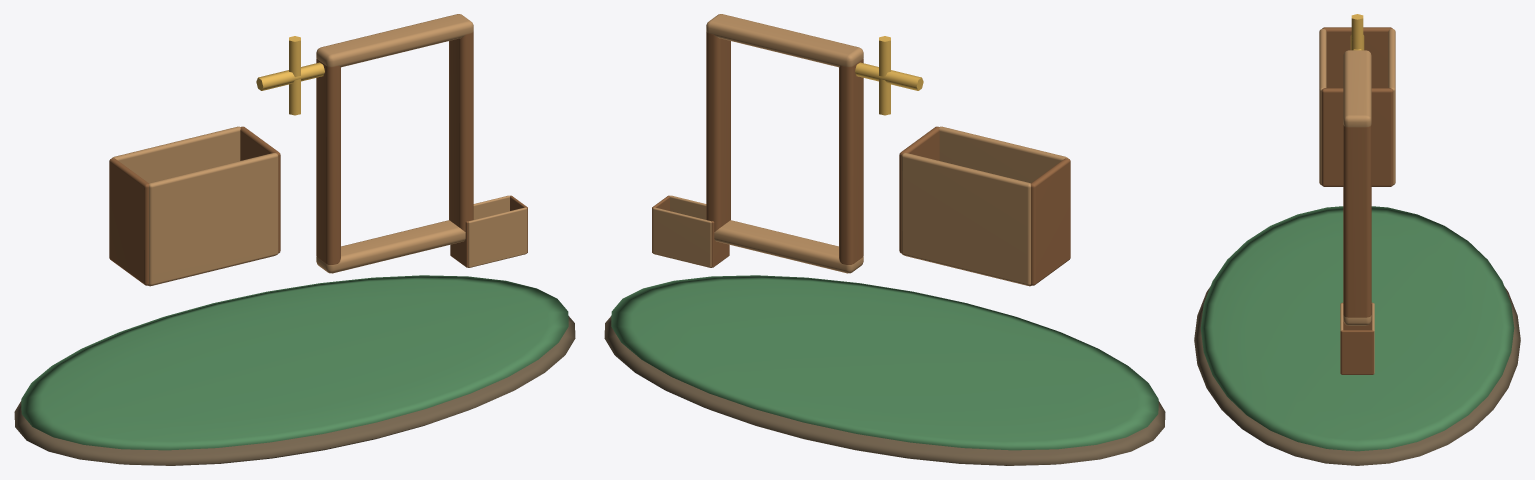
Rendered from complete-second-another-outside.glb.
3 renders of one model, left to right at view 1: azimuth 30°, elevation 25°; view 2: azimuth 150°, elevation 25°; view 3: azimuth 270°, elevation 25°, orthographic. The views are drawn at different scales.
Visible parts, largest first — view 1: complete-second-another-outside_surface_01, complete-second-another-outside_surface_02, complete-second-another-outside_surface_03, complete-second-another-outside_surface_00, complete-second-another-outside_surface_04; view 2: complete-second-another-outside_surface_01, complete-second-another-outside_surface_02, complete-second-another-outside_surface_03, complete-second-another-outside_surface_00, complete-second-another-outside_surface_04; view 3: complete-second-another-outside_surface_01, complete-second-another-outside_surface_03, complete-second-another-outside_surface_00, complete-second-another-outside_surface_02, complete-second-another-outside_surface_04.
Boxes of the visible parts, left/top/right/bottom form: complete-second-another-outside_surface_01: left=21, top=275, right=568, bottom=450; complete-second-another-outside_surface_02: left=112, top=14, right=527, bottom=285; complete-second-another-outside_surface_03: left=109, top=31, right=527, bottom=286; complete-second-another-outside_surface_00: left=14, top=316, right=575, bottom=465; complete-second-another-outside_surface_04: left=256, top=36, right=324, bottom=115; complete-second-another-outside_surface_01: left=611, top=275, right=1158, bottom=450; complete-second-another-outside_surface_02: left=652, top=14, right=1067, bottom=285; complete-second-another-outside_surface_03: left=652, top=31, right=1070, bottom=286; complete-second-another-outside_surface_00: left=604, top=316, right=1165, bottom=465; complete-second-another-outside_surface_04: left=855, top=36, right=923, bottom=115; complete-second-another-outside_surface_01: left=1200, top=206, right=1514, bottom=451; complete-second-another-outside_surface_03: left=1321, top=27, right=1393, bottom=374; complete-second-another-outside_surface_00: left=1194, top=286, right=1520, bottom=465; complete-second-another-outside_surface_02: left=1319, top=29, right=1395, bottom=373; complete-second-another-outside_surface_04: left=1350, top=14, right=1364, bottom=50.
Size of the model in its own units: 4.56 by 2.86 by 2.5.
